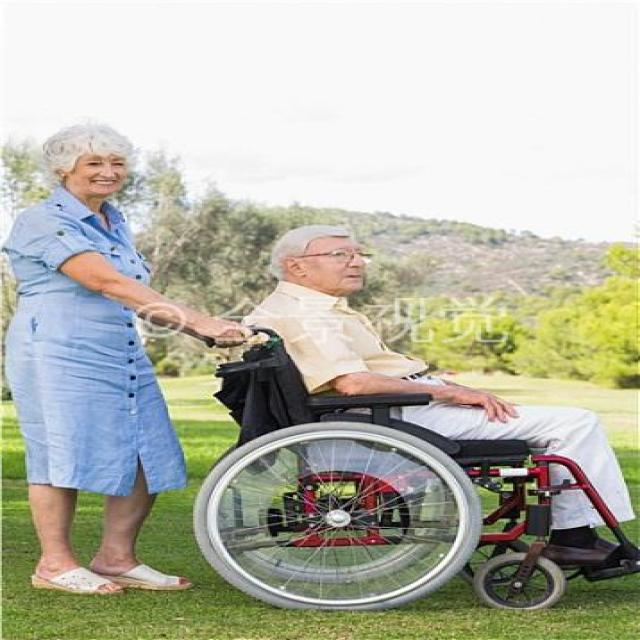wheelchairs: (187, 326, 640, 624)
